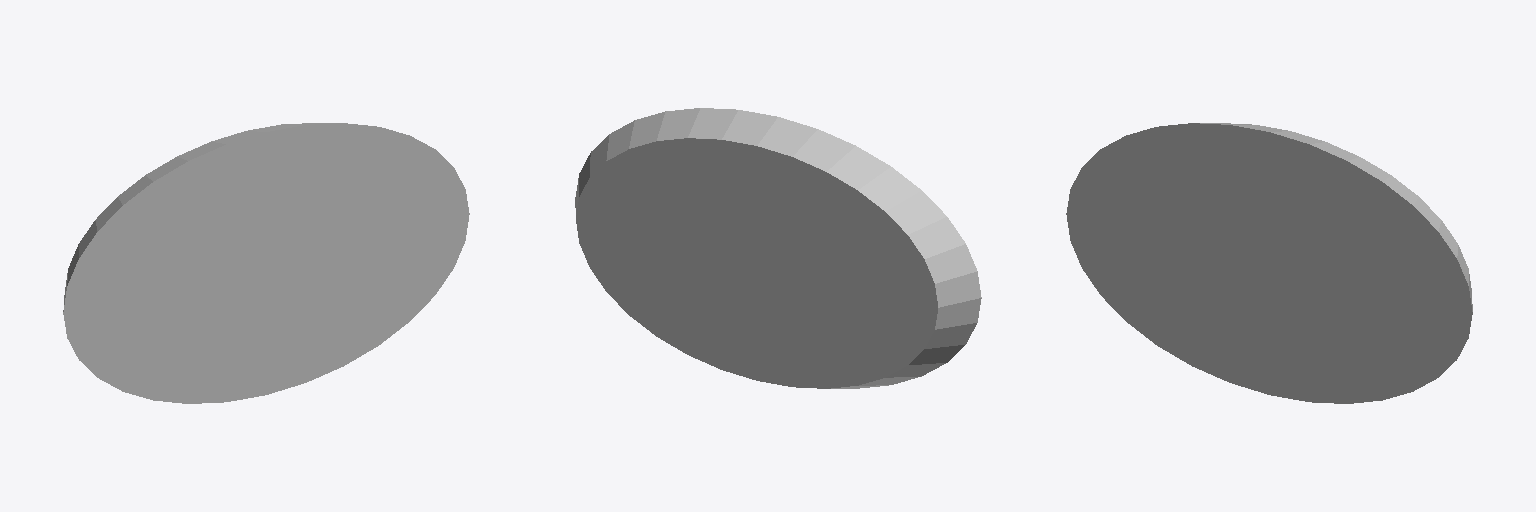
File: sword2_Cylinder_007.obj
3 views of the same model, side by side, from view 1: azimuth 30°, elevation 25°; view 2: azimuth 150°, elevation 25°; view 3: azimuth 330°, elevation 25° (orthographic).
Visible parts, largest first — view 1: Cylinder.007; view 2: Cylinder.007; view 3: Cylinder.007.
Boxes of the visible parts, <box> form: Cylinder.007: <box>63,123,469,403</box>; Cylinder.007: <box>575,108,981,388</box>; Cylinder.007: <box>1066,123,1472,403</box>.
Bounding box in the file's own units: 0.7915 × 0.4898 × 0.0704.